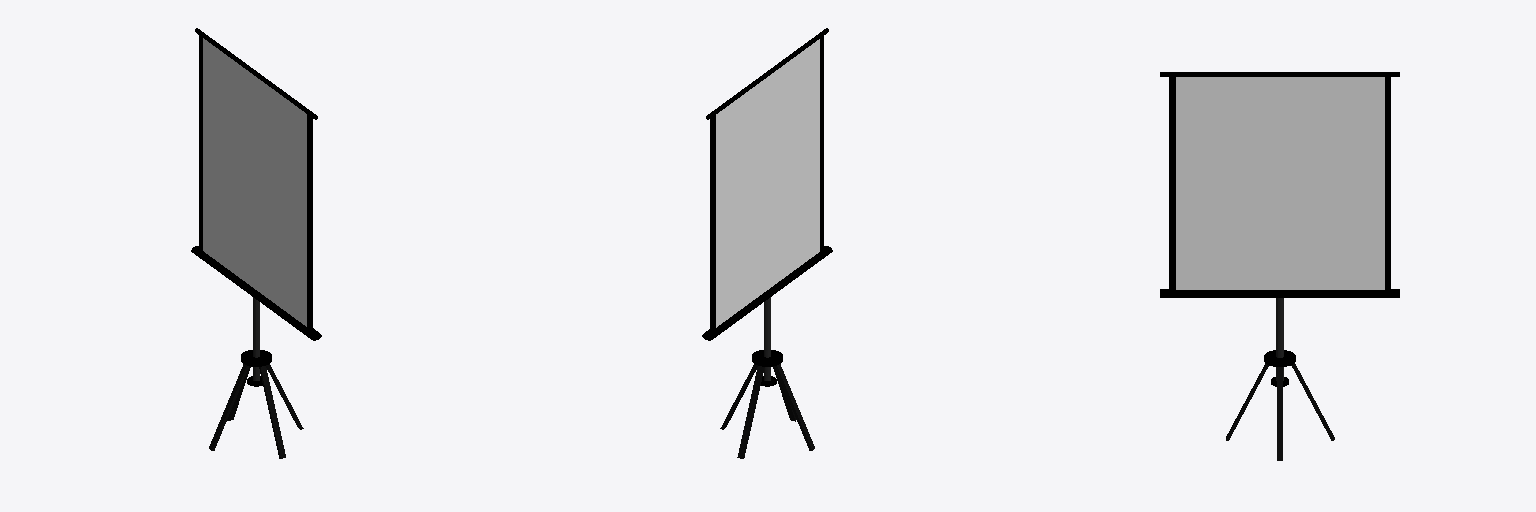
File: BeamerScherm.obj
The picture shows the model from 3 angles: view 1: azimuth 30°, elevation 25°; view 2: azimuth 150°, elevation 25°; view 3: azimuth 270°, elevation 25°; orthographic projection.
Parts seen in each view (by area): view 1: Cube.004_Cube.005, Cube.006_Cube.007, Cylinder, Cube.005_Cube.006, Cylinder.004, Cube.002_Cube.003, Cube.001_Cube.002; view 2: Cube.004_Cube.005, Cube.005_Cube.006, Cylinder, Cube.006_Cube.007, Cylinder.004, Cube.003_Cube.004, Cube.001_Cube.002; view 3: Cube.004_Cube.005, Cylinder, Cube.006_Cube.007, Cube.005_Cube.006, Cylinder.004, Cube_Cube.001.
Boxes of the visible parts, <box> form: Cube.004_Cube.005: <box>203,38,306,326</box>; Cube.006_Cube.007: <box>307,114,312,329</box>; Cylinder: <box>191,246,321,340</box>; Cube.005_Cube.006: <box>199,35,202,250</box>; Cylinder.004: <box>195,28,317,119</box>; Cube.002_Cube.003: <box>259,366,285,458</box>; Cube.001_Cube.002: <box>209,364,248,450</box>; Cube.004_Cube.005: <box>716,39,819,327</box>; Cube.005_Cube.006: <box>710,115,715,330</box>; Cylinder: <box>702,246,832,340</box>; Cube.006_Cube.007: <box>820,36,823,251</box>; Cylinder.004: <box>706,28,828,119</box>; Cube.003_Cube.004: <box>737,366,764,458</box>; Cube.001_Cube.002: <box>775,364,814,450</box>; Cube.004_Cube.005: <box>1176,77,1384,289</box>; Cylinder: <box>1160,289,1399,297</box>; Cube.006_Cube.007: <box>1169,77,1175,290</box>; Cube.005_Cube.006: <box>1385,77,1390,290</box>; Cylinder.004: <box>1160,72,1399,76</box>; Cube_Cube.001: <box>1277,367,1282,460</box>.
Bounding box in the file's own units: 0.6744 × 2.58 × 1.52.